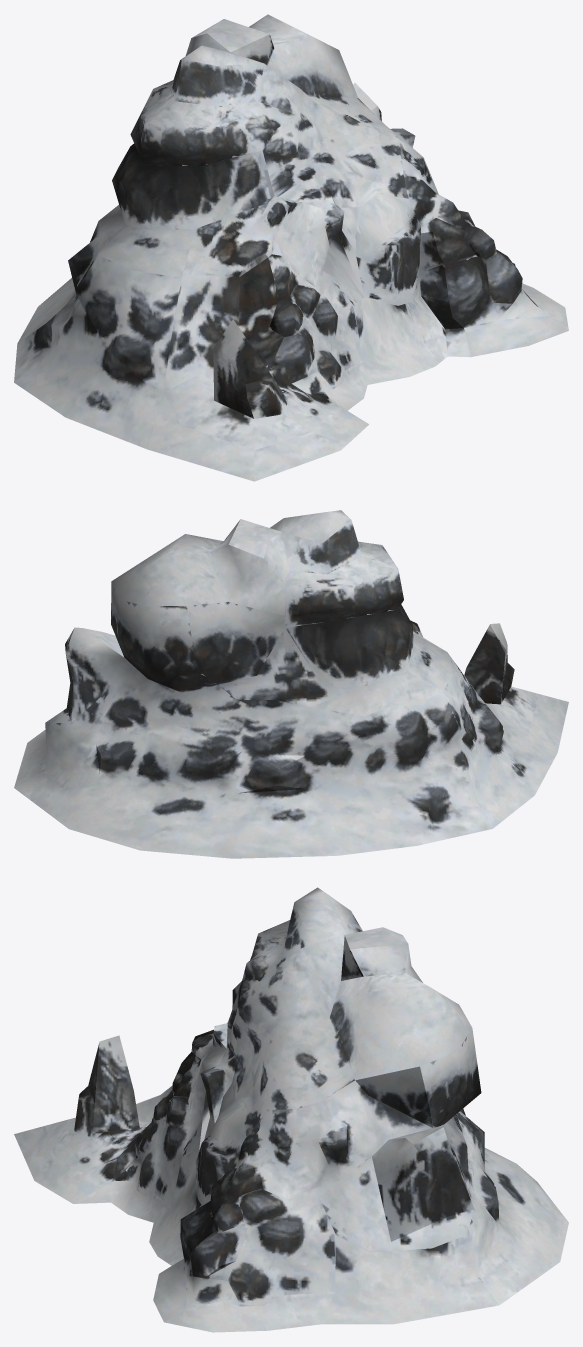
File: 2005_Item_shitou_10.FBX
3 renders of one model, top to bottom at view 1: azimuth 30°, elevation 25°; view 2: azimuth 150°, elevation 25°; view 3: azimuth 270°, elevation 25°, orthographic. The views are drawn at different scales.
Parts seen in each view (by area): view 1: 2005_Item_shitou_10; view 2: 2005_Item_shitou_10; view 3: 2005_Item_shitou_10.
Part boxes in pixels (x1=…): 2005_Item_shitou_10: x1=14, y1=14, x2=568, y2=481; 2005_Item_shitou_10: x1=14, y1=510, x2=568, y2=858; 2005_Item_shitou_10: x1=14, y1=887, x2=568, y2=1332.
Bounding box in the file's own units: 1032 × 594 × 1024.
